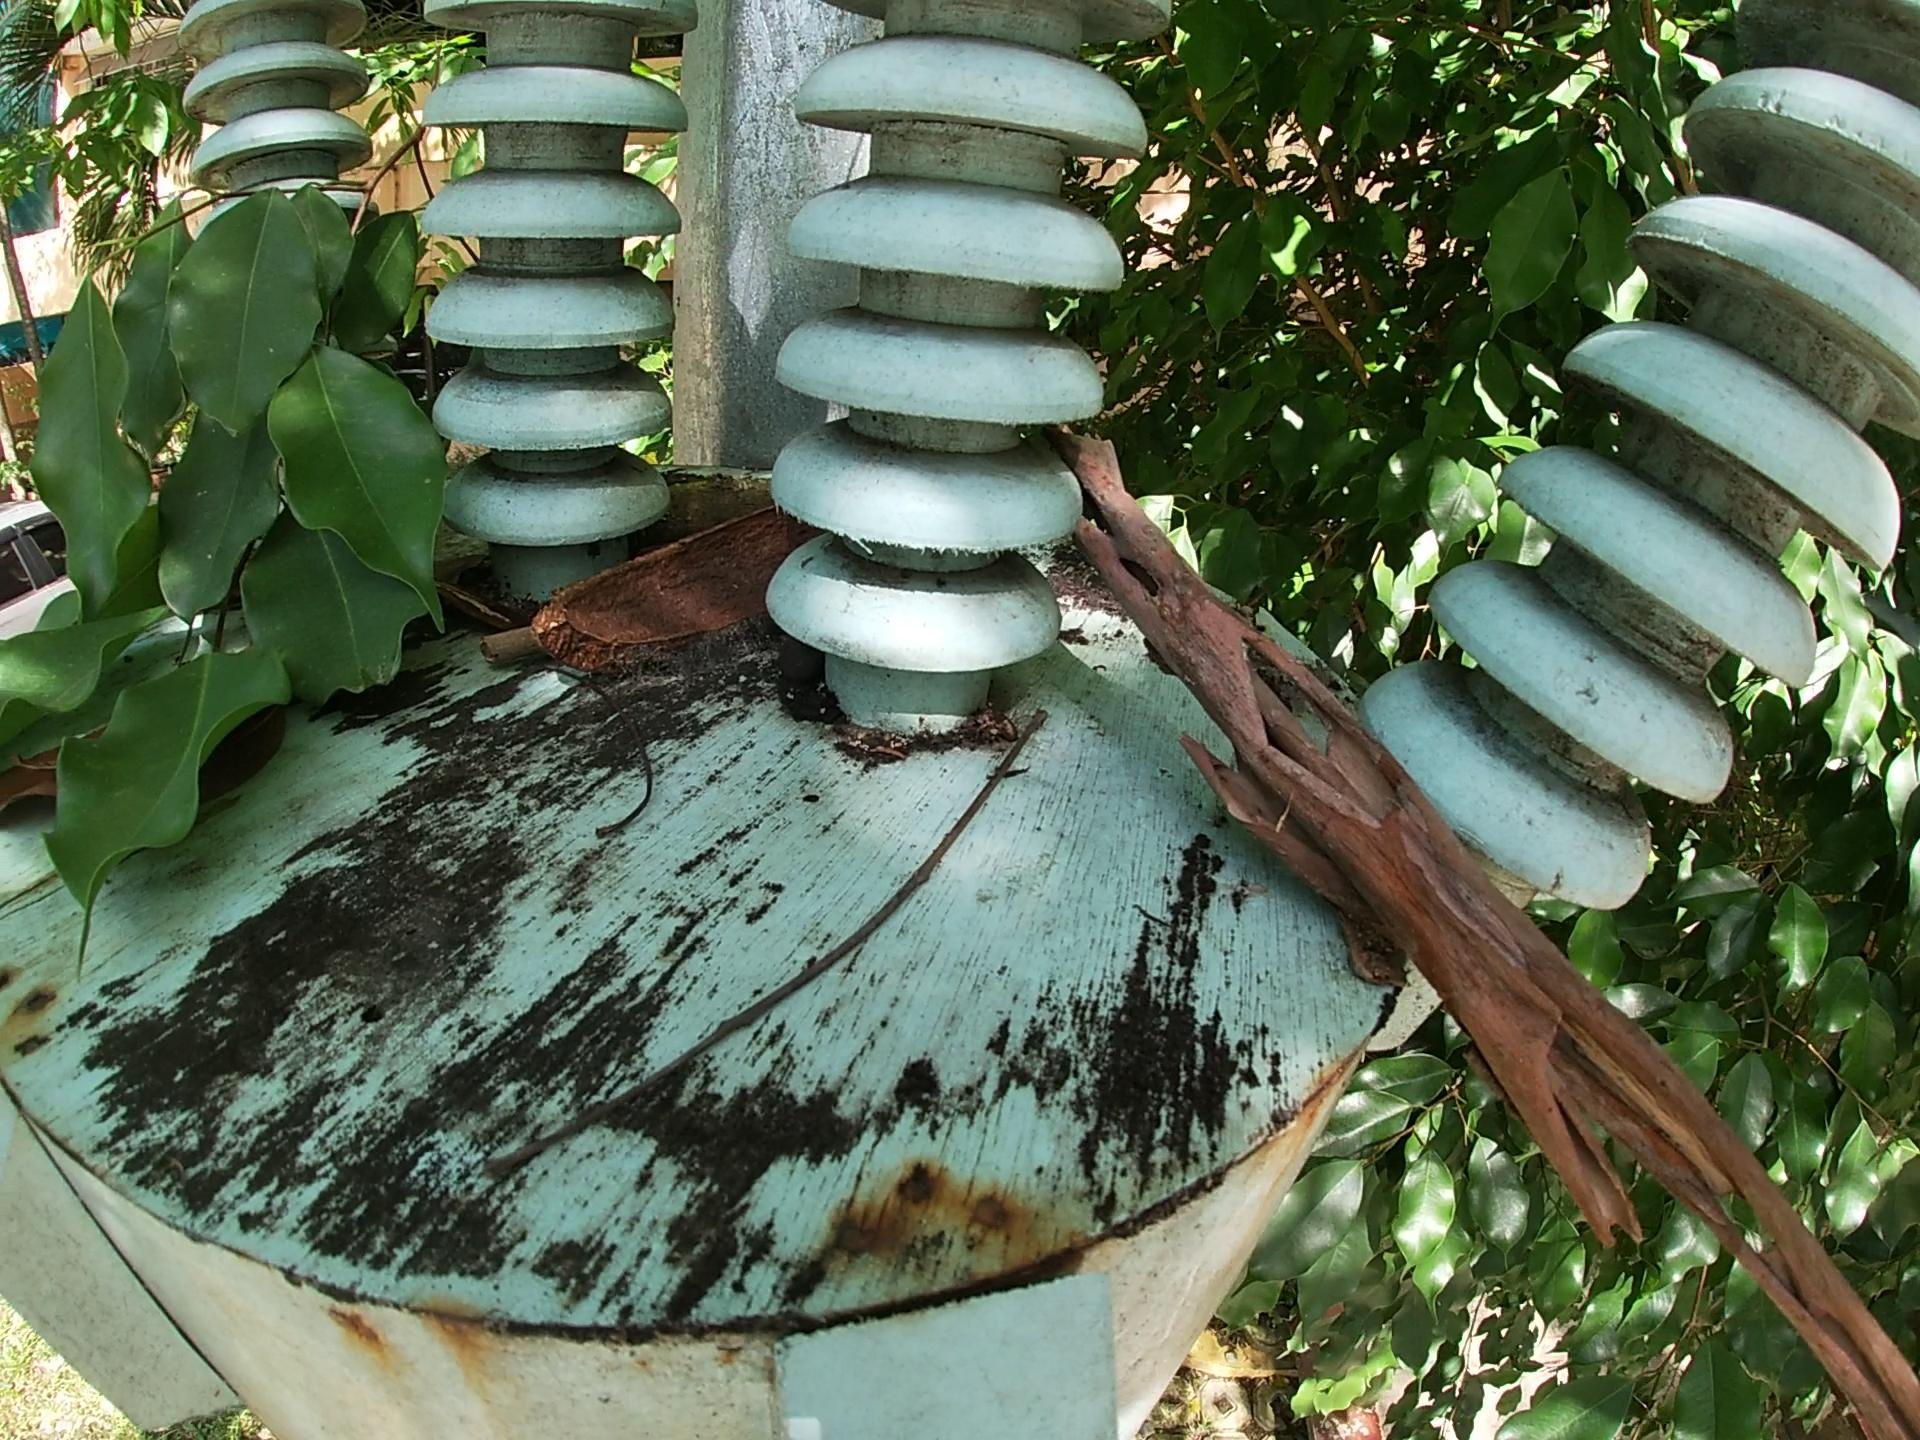branch with leaves: (14, 116, 497, 1038)
leaf: (2, 747, 63, 846)
tree branch: (1055, 433, 1917, 1432), (491, 706, 1058, 1192), (547, 675, 664, 855), (649, 473, 780, 535), (467, 629, 526, 681)
